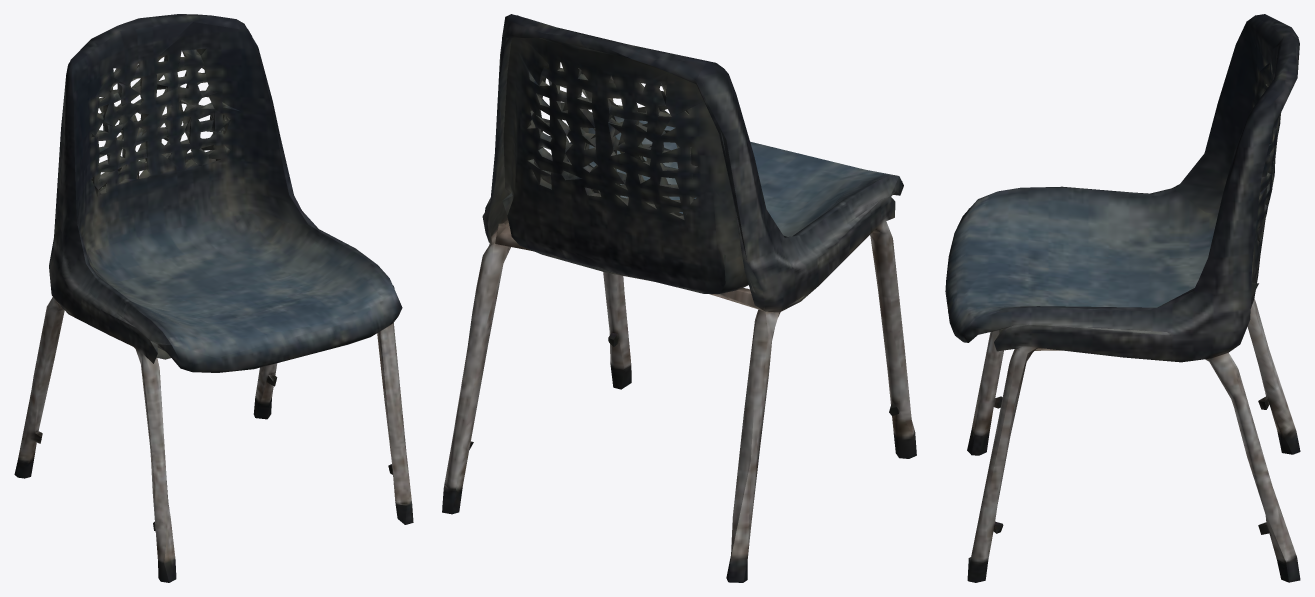
File: p7-plastic-stack-chair.glb
3 renders of one model, left to right at view 1: azimuth 30°, elevation 25°; view 2: azimuth 150°, elevation 25°; view 3: azimuth 270°, elevation 25°, orthographic. The views are drawn at different scales.
Parts seen in each view (by area): view 1: p7-plastic-stack-chair; view 2: p7-plastic-stack-chair; view 3: p7-plastic-stack-chair.
Boxes of the visible parts, x1,y1,x2,y2 form: p7-plastic-stack-chair: [14, 14, 413, 582]; p7-plastic-stack-chair: [442, 14, 916, 582]; p7-plastic-stack-chair: [945, 14, 1300, 582].
Bounding box in the file's own units: 0.5 × 0.8 × 0.55.
Materials: 1 (1 with a texture image).
